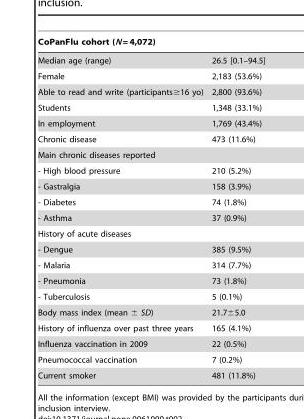table: (37, 37, 264, 379)
table column: (37, 37, 206, 379), (206, 37, 264, 379)
table column header: (37, 37, 264, 68)
table projected row header: (37, 146, 264, 162), (37, 225, 264, 241)
table row: (37, 50, 264, 68), (37, 83, 264, 99), (37, 99, 264, 115), (37, 115, 264, 131), (37, 146, 264, 162), (37, 162, 264, 178), (37, 178, 264, 194), (37, 209, 264, 225), (37, 225, 264, 241), (37, 241, 264, 257), (37, 272, 264, 288), (37, 288, 264, 304), (37, 304, 264, 320), (37, 335, 264, 351), (37, 351, 264, 367), (37, 68, 264, 83), (37, 131, 264, 146), (37, 194, 264, 209), (37, 257, 264, 272), (37, 320, 264, 335), (37, 37, 264, 50), (37, 367, 264, 379)
table spanning cell: (37, 37, 264, 50)
